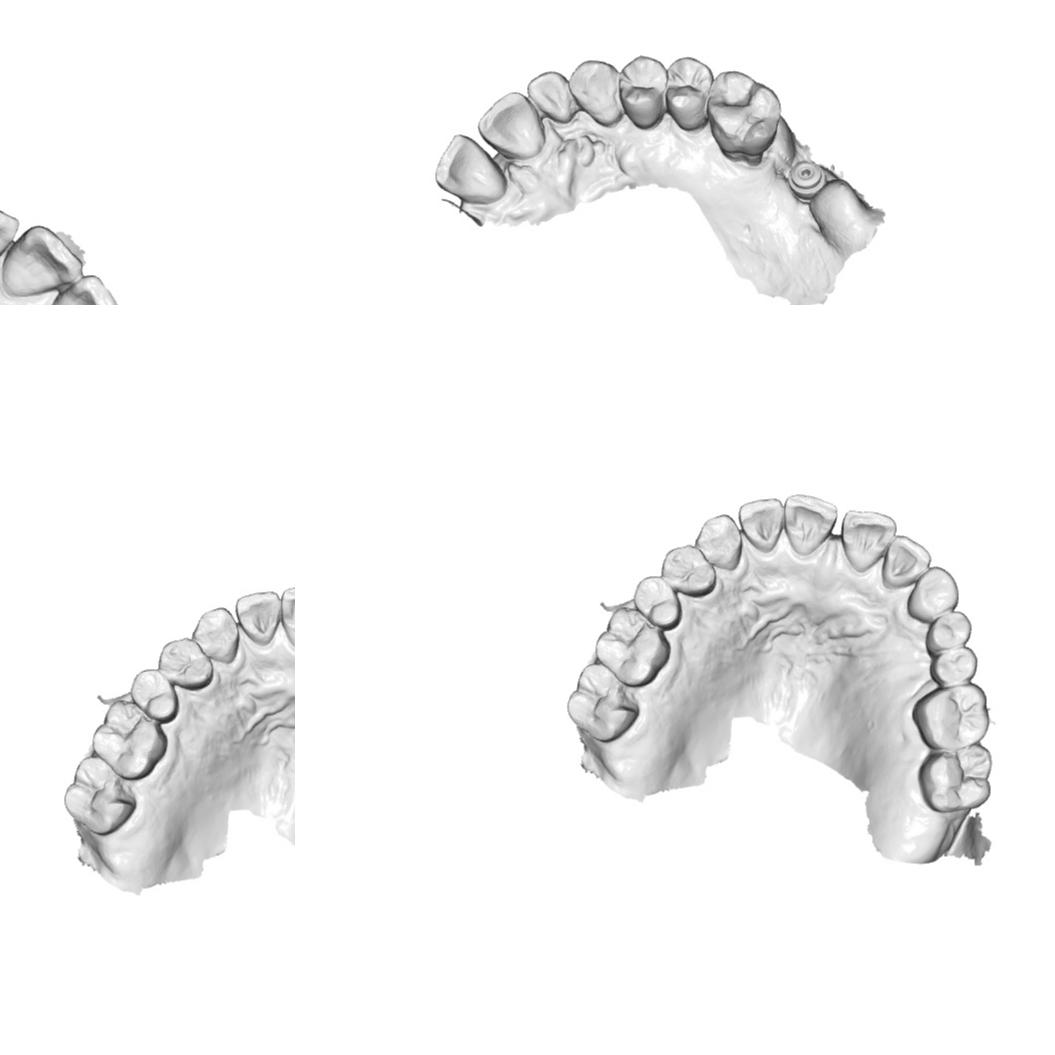canine: (566, 59, 629, 130), (906, 565, 960, 621), (692, 512, 742, 572), (190, 606, 239, 665)
implant: (783, 158, 826, 194)
incisor: (0, 225, 86, 298), (432, 130, 504, 204), (474, 89, 546, 160), (841, 509, 899, 573), (782, 493, 838, 556), (233, 590, 284, 648), (736, 497, 787, 555), (880, 534, 933, 588), (525, 68, 571, 125), (42, 274, 125, 305), (0, 201, 20, 273), (279, 586, 295, 649)
molar: (704, 68, 784, 168), (89, 699, 168, 780), (592, 606, 671, 687), (61, 754, 137, 835), (564, 661, 640, 742), (917, 742, 993, 814), (911, 681, 986, 752)
premolar: (662, 55, 713, 133), (618, 52, 667, 130), (156, 636, 214, 691), (659, 543, 717, 598), (632, 572, 683, 629), (130, 665, 180, 722), (923, 610, 972, 653), (928, 645, 978, 686)
